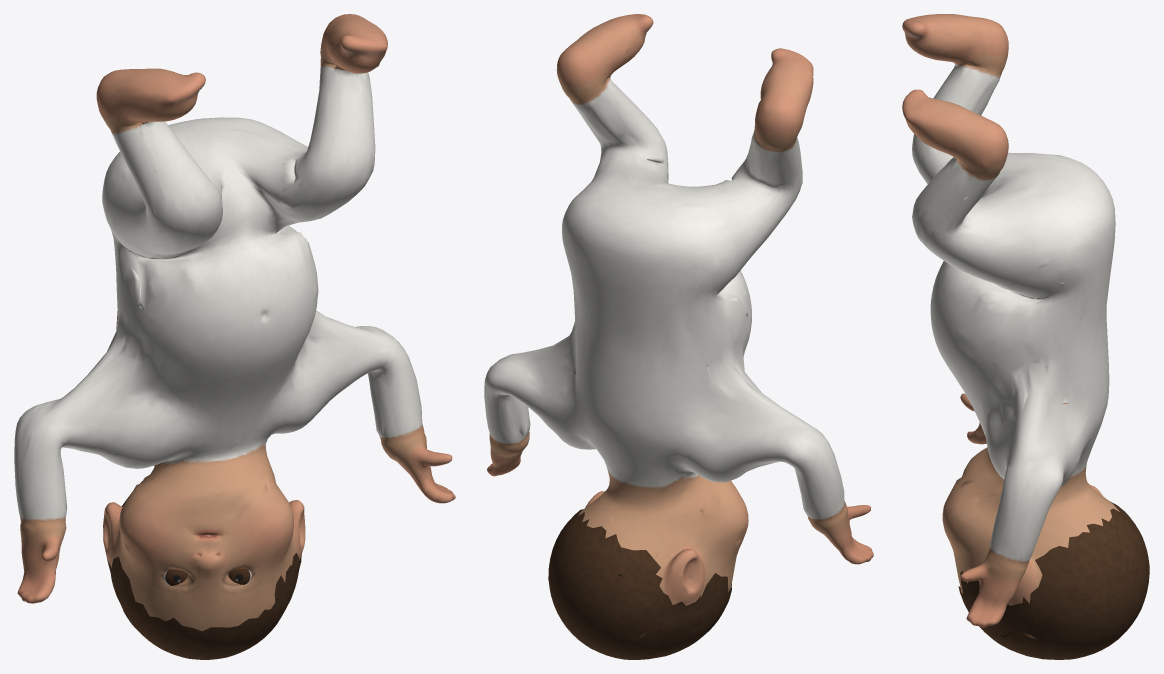
The model's file is ely_bebe_allonge.obj.
3 views of the same model, side by side, from view 1: azimuth 30°, elevation 25°; view 2: azimuth 150°, elevation 25°; view 3: azimuth 270°, elevation 25° (orthographic). The views are drawn at different scales.
Parts seen in each view (by area): view 1: ely_bebe_allonge_corps, ely_bebe_allonge_cheveux; view 2: ely_bebe_allonge_corps, ely_bebe_allonge_cheveux; view 3: ely_bebe_allonge_corps, ely_bebe_allonge_cheveux.
Boxes of the visible parts, left/top/right/bottom form: ely_bebe_allonge_corps: left=14, top=14, right=455, bottom=631; ely_bebe_allonge_cheveux: left=106, top=481, right=301, bottom=659; ely_bebe_allonge_corps: left=484, top=14, right=873, bottom=605; ely_bebe_allonge_cheveux: left=548, top=509, right=731, bottom=659; ely_bebe_allonge_corps: left=902, top=14, right=1119, bottom=627; ely_bebe_allonge_cheveux: left=958, top=501, right=1149, bottom=659.
Size of the model in its own units: 0.3095 by 0.4458 by 0.1685.
Materials: 3 (3 with a texture image).
